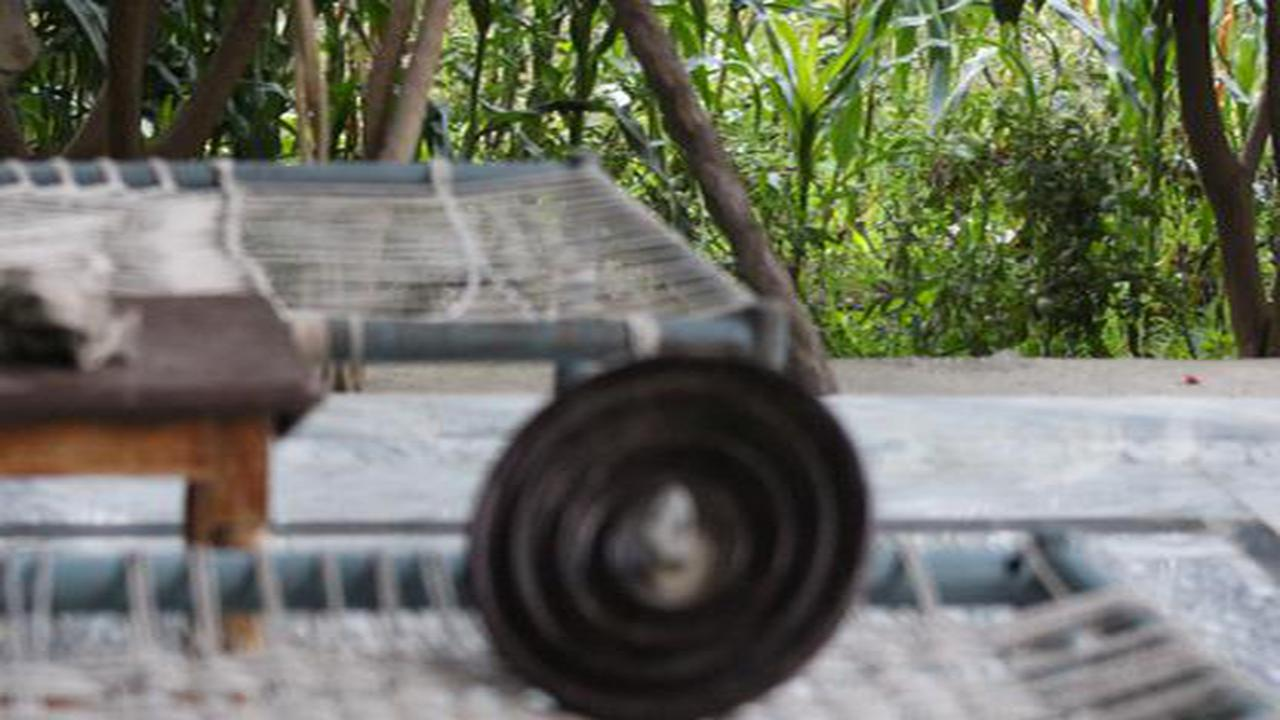insulator_disc: (463, 340, 879, 704)
